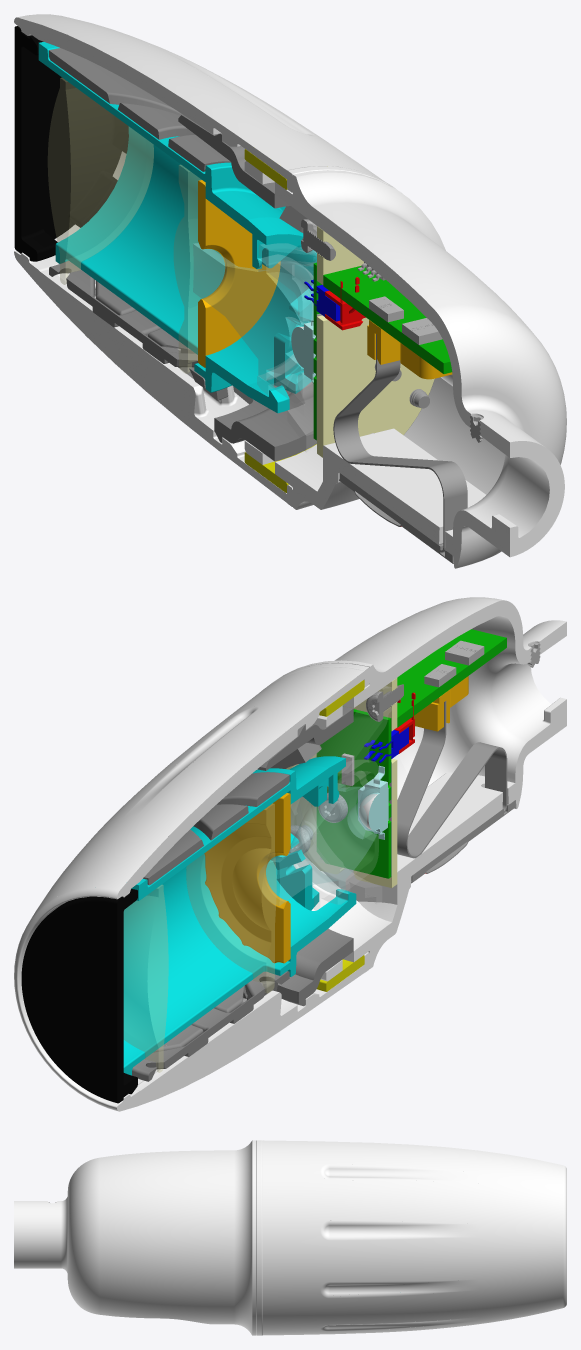
The model's file is midmark.glb.
The picture shows the model from 3 angles, top to bottom: view 1: azimuth 30°, elevation 25°; view 2: azimuth 150°, elevation 25°; view 3: azimuth 270°, elevation 25°; orthographic projection. The views are drawn at different scales.
Parts seen in each view (by area): view 1: ritter_253 Section 2-1; view 2: ritter_253 Section 2-1; view 3: ritter_253 Section 2-1.
Boxes of the visible parts, x1=… form: ritter_253 Section 2-1: x1=14, y1=14, x2=566, y2=568; ritter_253 Section 2-1: x1=14, y1=597, x2=566, y2=1111; ritter_253 Section 2-1: x1=14, y1=1140, x2=566, y2=1335.
Bounding box in the file's own units: 0.0242 × 0.0484 × 0.1306.
